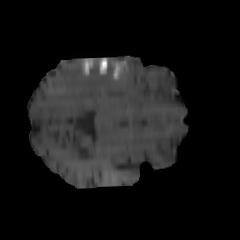glioma: (54, 53, 145, 97)
